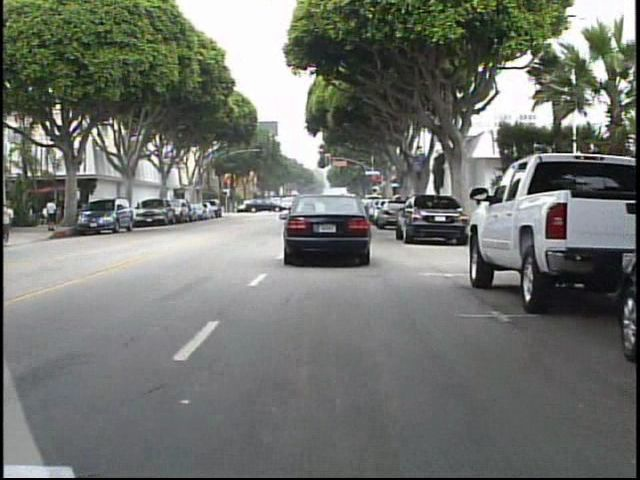person: (4, 194, 21, 251), (46, 194, 62, 232), (267, 193, 280, 217)
